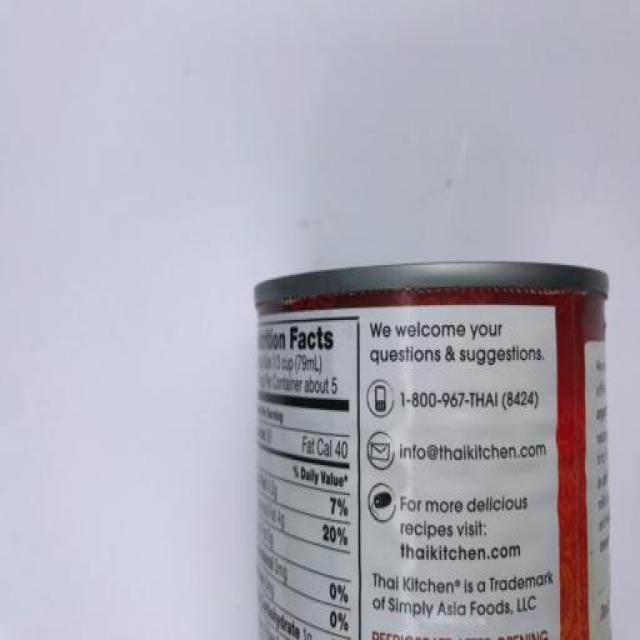metel: (221, 159, 640, 640)
